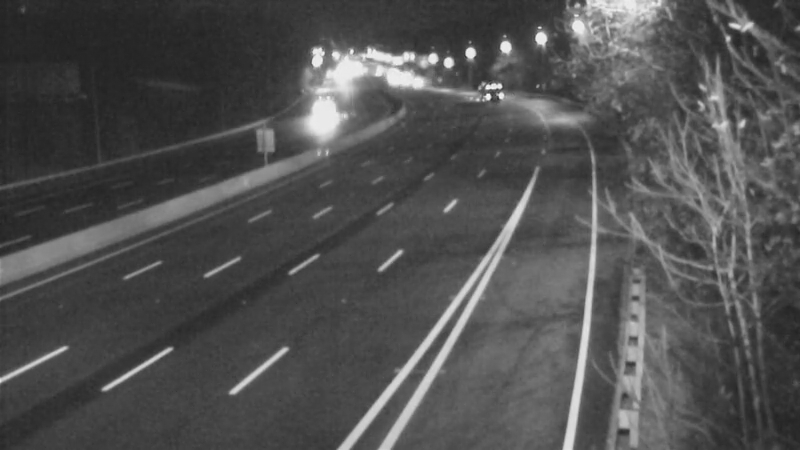vehicle: (468, 66, 518, 116), (299, 94, 349, 144)
